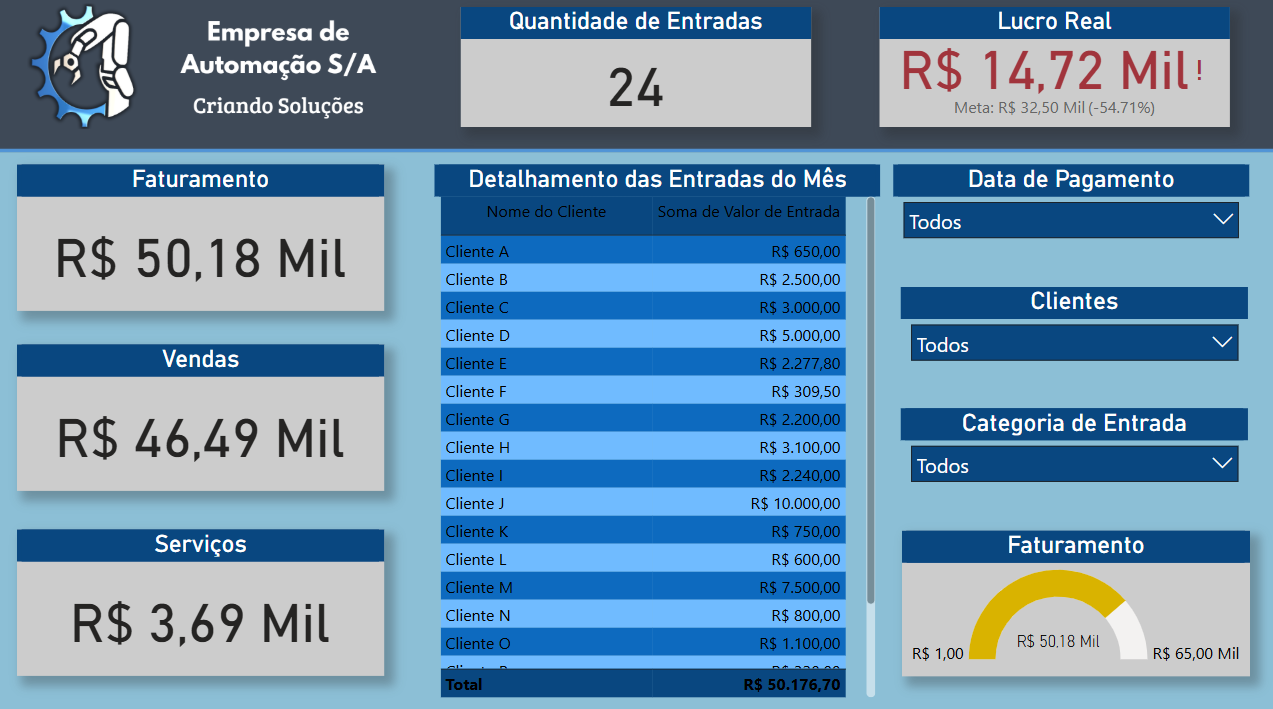

What the dashboard file says about the page in this screenshot:
{"tool":"powerbi","page":{"name":"Entradas","canvas":[1280,720],"ordinal":2},"visuals":[{"type":"card","title":"Faturamento","fields":{"Values":["Sum(Balanceamento.Entradas)"]},"box":[19.6,168.1,366.9,146],"z":0},{"type":"card","title":"Vendas","fields":{"Values":["Sum(Entradas.Valor de Entrada)"]},"box":[19.6,347.2,366.9,146],"z":1000},{"type":"card","title":"Serviços","fields":{"Values":["Sum(Entradas.Valor de Entrada)"]},"box":[19.6,532.5,366.9,146],"z":2000},{"type":"gauge","title":"Faturamento","fields":{"Y":["Sum(Balanceamento.Entradas)"],"MaxValue":["Avg(Balanceamento.Meta)"]},"box":[904.6,533.8,347.7,145.7],"z":3000},{"type":"slicer","title":"Clientes","fields":{"Values":["Entradas.Nome do Cliente"]},"box":[904.3,289.6,347.2,85.9],"z":4000},{"type":"slicer","title":"Data de Pagamento","fields":{"Values":["Entradas.Data Pagamento"]},"box":[895.7,168.1,355.8,85.9],"z":5000},{"type":"slicer","title":"Categoria de Entrada","fields":{"Values":["Entradas.Categoria de Entrada"]},"box":[904.3,411,347.2,85.9],"z":6000},{"type":"card","title":"Quantidade de Entradas","fields":{"Values":["CountNonNull(Entradas.Categoria de Entrada)"]},"box":[464.1,10.3,350,120],"z":7000},{"type":"tableEx","title":"Detalhamento das Entradas do Mês","fields":{"Values":["Entradas.Nome do Cliente","Sum(Entradas.Valor de Entrada)"]},"box":[437.2,167.4,445.8,538.2],"z":8000},{"type":"kpi","title":"Lucro Real","fields":{"Indicator":["Sum(Balanceamento.Lucro Real)"],"Goal":["Sum(Balanceamento.Lucro Ideal)"],"TrendLine":["Balanceamento.Lucro Ideal"]},"box":[882.2,9.8,350,120],"z":9000}]}

Visuals, with their boxes in screenshot pixels (x1, y1, x2, y2), scaled from the page's 1280x720 canvas onto the 1273x709 screenshot:
"Faturamento" card: {"left": 19, "top": 166, "right": 384, "bottom": 309}
"Vendas" card: {"left": 19, "top": 342, "right": 384, "bottom": 486}
"Serviços" card: {"left": 19, "top": 524, "right": 384, "bottom": 668}
"Faturamento" gauge: {"left": 900, "top": 526, "right": 1245, "bottom": 669}
"Clientes" slicer: {"left": 899, "top": 285, "right": 1245, "bottom": 370}
"Data de Pagamento" slicer: {"left": 891, "top": 166, "right": 1245, "bottom": 250}
"Categoria de Entrada" slicer: {"left": 899, "top": 405, "right": 1245, "bottom": 489}
"Quantidade de Entradas" card: {"left": 462, "top": 10, "right": 810, "bottom": 128}
"Detalhamento das Entradas do Mês" tableEx: {"left": 435, "top": 165, "right": 878, "bottom": 695}
"Lucro Real" kpi: {"left": 877, "top": 10, "right": 1225, "bottom": 128}
